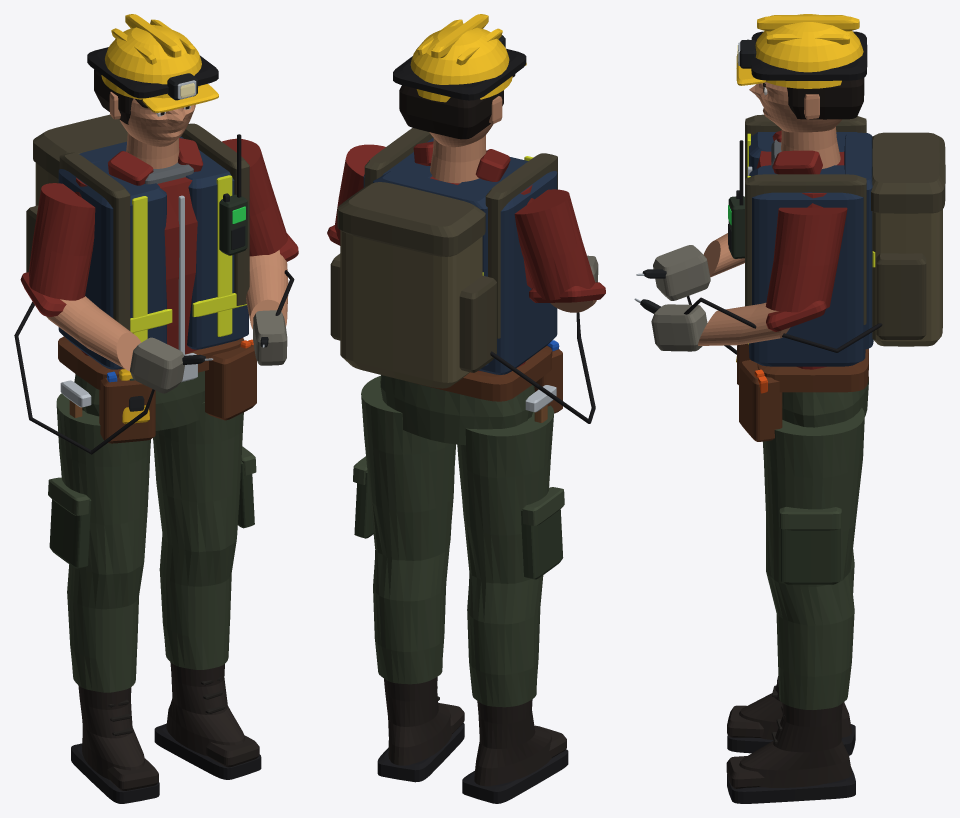
The model's file is penjaga_menara_rimba_hd.obj.
3 views of the same model, side by side, from view 1: azimuth 30°, elevation 25°; view 2: azimuth 150°, elevation 25°; view 3: azimuth 270°, elevation 25° (orthographic). The views are drawn at different scales.
Parts seen in each view (by area): view 1: CargoPant_Leg_Right, CargoPant_Leg_Left, Vest_Panel_Left, Flannel_UpperArm_R, Vest_Panel_Right, Boot_Upper_Right, Boot_Upper_Left, Flannel_Torso, Backpack_Strap_L, HardHat_Dome, ToolPouch_Left, Forearm_Skin_R (+35 smaller); view 2: CargoPant_Leg_Right, CargoPant_Leg_Left, Backpack_Main, Backpack_TopFlap, Vest_Panel_Left, Flannel_UpperArm_R, CargoPant_Pelvis, Boot_Upper_Left, Boot_Upper_Right, HardHat_Dome, Hair_Nape_Sides, Backpack_SidePouch_L (+20 smaller); view 3: CargoPant_Leg_Right, Vest_Panel_Right, Flannel_UpperArm_L, Boot_Upper_Right, Backpack_TopFlap, Backpack_Main, HardHat_Dome, Backpack_SidePouch_R, Backpack_Strap_R, CargoPocket_Body_Right, CargoPant_Pelvis, ToolPouch_Left (+23 smaller).
Boxes of the visible parts, x1,y1,x2,y2 form: CargoPant_Leg_Right: (153,402,243,669); CargoPant_Leg_Left: (56,393,150,692); Vest_Panel_Left: (58,159,166,369); Flannel_UpperArm_R: (29,183,95,300); Vest_Panel_Right: (180,136,248,349); Boot_Upper_Right: (166,662,244,755); Boot_Upper_Left: (78,685,144,779); Flannel_Torso: (75,177,197,355); Backpack_Strap_L: (59,152,130,330); HardHat_Dome: (101,25,201,99); ToolPouch_Left: (205,345,256,420); Forearm_Skin_R: (46,296,141,371); CargoPant_Leg_Right: (361,375,455,684); CargoPant_Leg_Left: (457,405,554,707); Backpack_Main: (340,230,482,388); Backpack_TopFlap: (337,182,485,256); Vest_Panel_Left: (458,156,557,374); Flannel_UpperArm_R: (514,189,594,300); CargoPant_Pelvis: (380,375,534,445); Boot_Upper_Left: (474,699,551,786); Boot_Upper_Right: (384,677,452,765); HardHat_Dome: (410,25,512,102); Hair_Nape_Sides: (399,85,503,139); Backpack_SidePouch_L: (459,275,496,372); CargoPant_Leg_Right: (763,408,864,709); Vest_Panel_Right: (749,165,865,366); Flannel_UpperArm_L: (765,207,847,312); Boot_Upper_Right: (739,703,851,787); Backpack_TopFlap: (871,132,945,213); Backpack_Main: (872,209,942,346); HardHat_Dome: (755,14,863,88); Backpack_SidePouch_R: (876,253,926,339); Backpack_Strap_R: (745,174,866,324); CargoPocket_Body_Right: (781,528,840,584); CargoPant_Pelvis: (782,377,868,427); ToolPouch_Left: (739,360,782,441).
Bounding box in the file's own units: 0.6369 × 1.74 × 0.6517.
